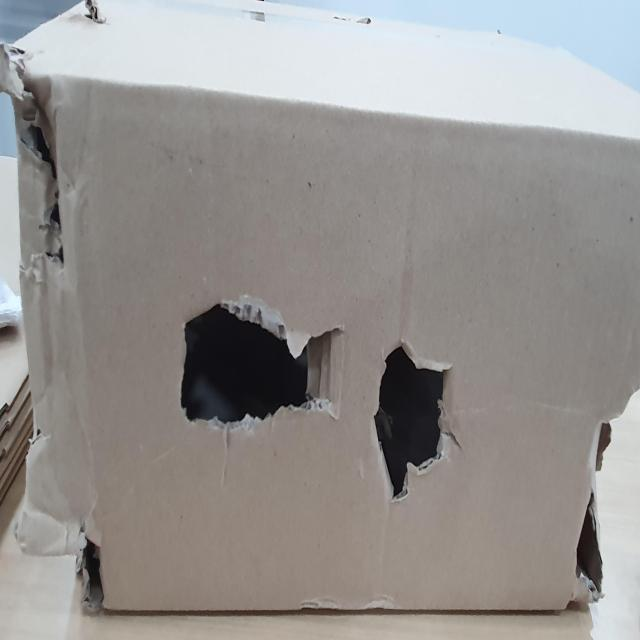damaged: (171, 296, 342, 439), (366, 331, 456, 496), (11, 64, 74, 276), (574, 390, 612, 597), (75, 519, 118, 610)
